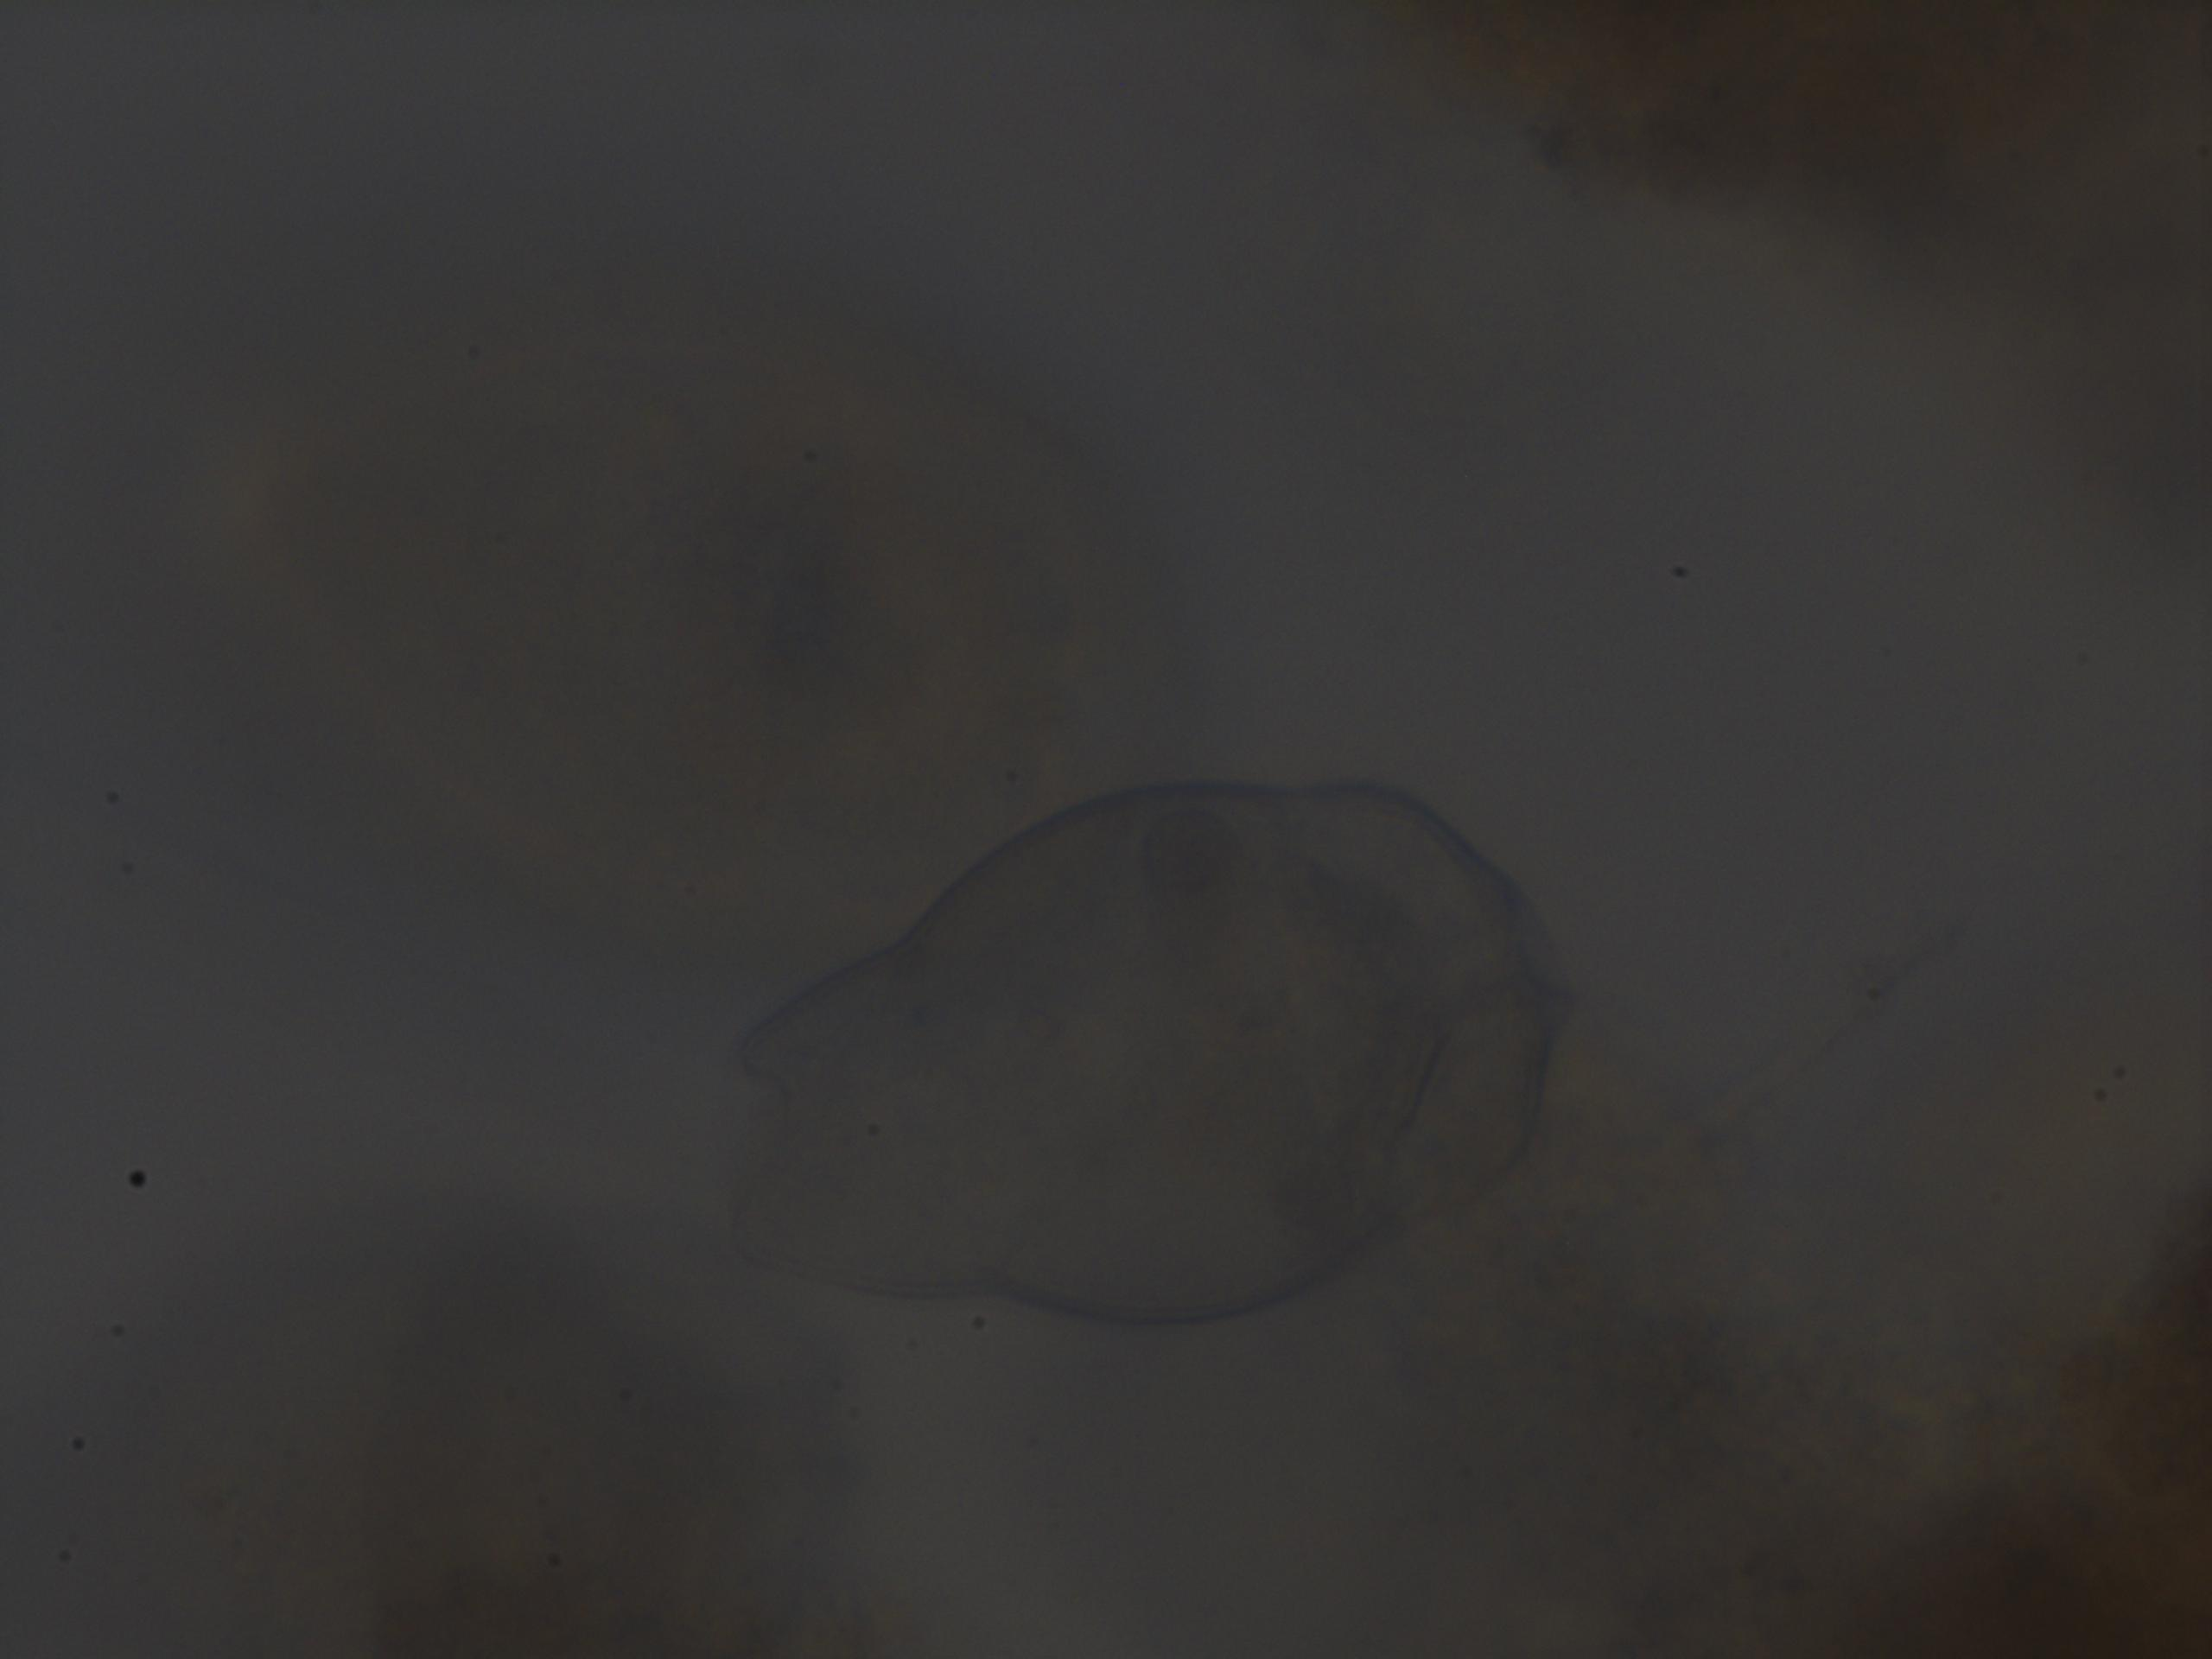protozoa: (634, 760, 1580, 1349)
